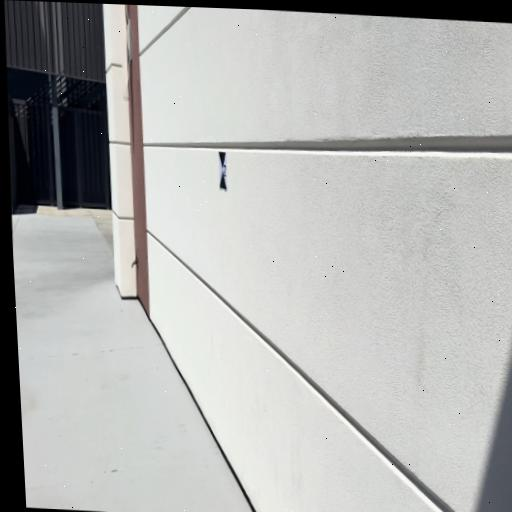target7: (218, 151, 228, 192)
